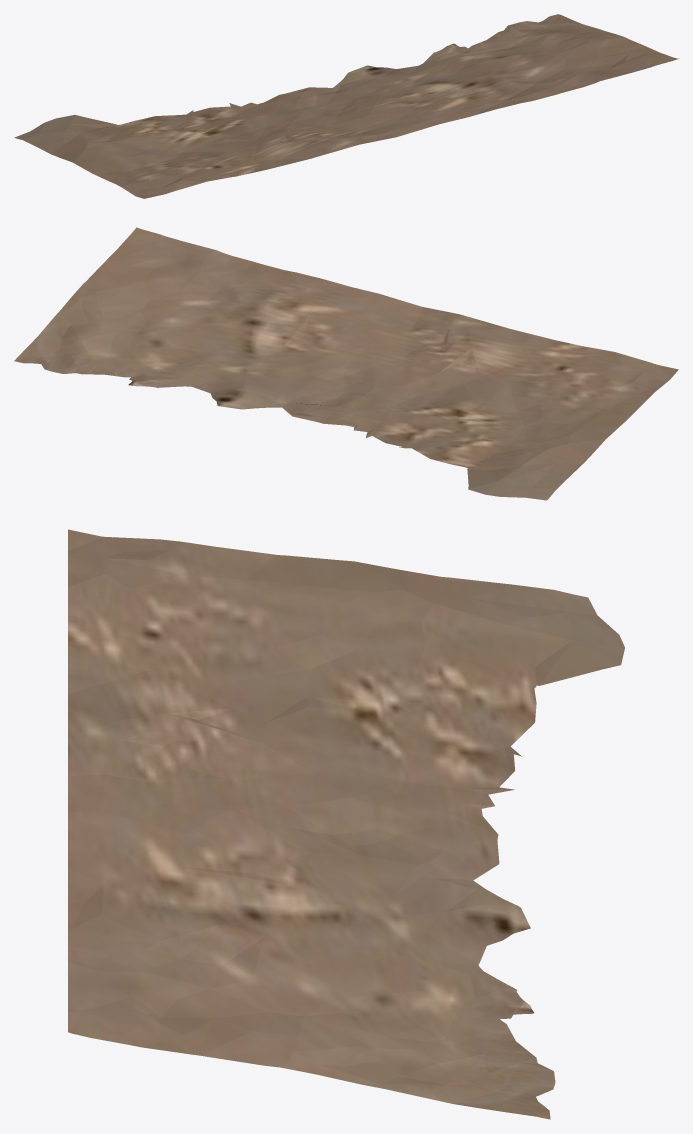
3 renders of one model, top to bottom at view 1: azimuth 30°, elevation 25°; view 2: azimuth 150°, elevation 25°; view 3: azimuth 270°, elevation 25°, orthographic. The views are drawn at different scales.
Size of the model in its own units: 1.04 by 0.0814 by 0.4712.
Materials: 1 (1 with a texture image).
